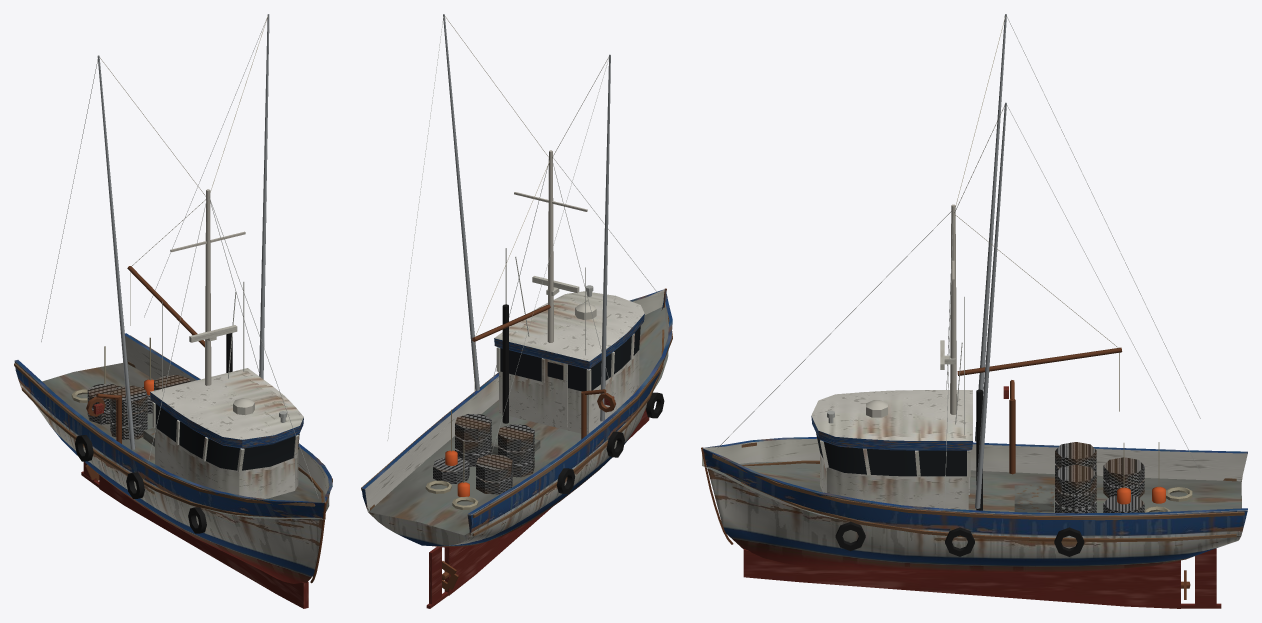
File: fishingBoat-a-lod1.glb
The picture shows the model from 3 angles, left to right: view 1: azimuth 30°, elevation 25°; view 2: azimuth 150°, elevation 25°; view 3: azimuth 270°, elevation 25°; orthographic projection. The views are drawn at different scales.
Visible parts, largest first — view 1: Hull, Superstructure, Rig, Gear; view 2: Hull, Superstructure, Rig, Gear; view 3: Hull, Superstructure, Gear, Rig.
Boxes of the visible parts, x1=… form: Hull: x1=14, y1=333, x2=332, y2=608; Superstructure: x1=150, y1=368, x2=303, y2=498; Rig: x1=41, y1=14, x2=318, y2=497; Gear: x1=71, y1=337, x2=206, y2=533; Hull: x1=361, y1=288, x2=672, y2=608; Superstructure: x1=494, y1=291, x2=644, y2=434; Rig: x1=387, y1=14, x2=658, y2=465; Gear: x1=425, y1=389, x2=664, y2=509; Hull: x1=701, y1=437, x2=1247, y2=608; Superstructure: x1=811, y1=390, x2=972, y2=509; Gear: x1=835, y1=380, x2=1192, y2=556; Rig: x1=717, y1=14, x2=1200, y2=510.
Size of the model in its own units: 5.06 by 13.85 by 12.5.
Materials: 1 (1 with a texture image).
